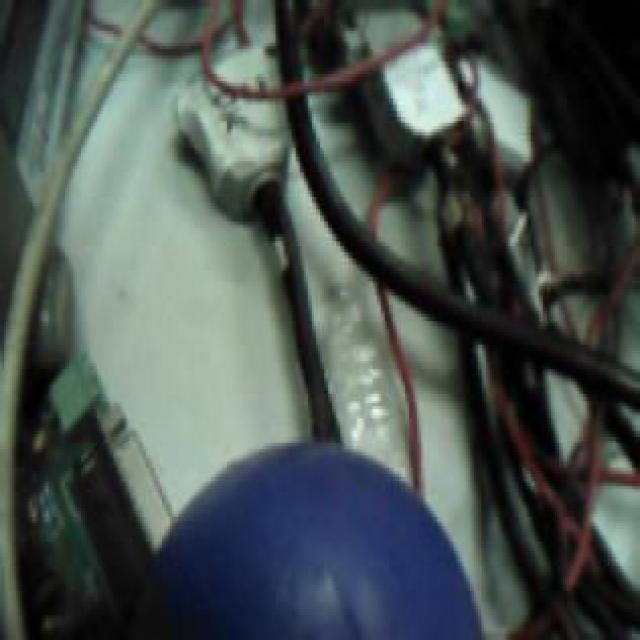BallPurple: (145, 442, 482, 640)
